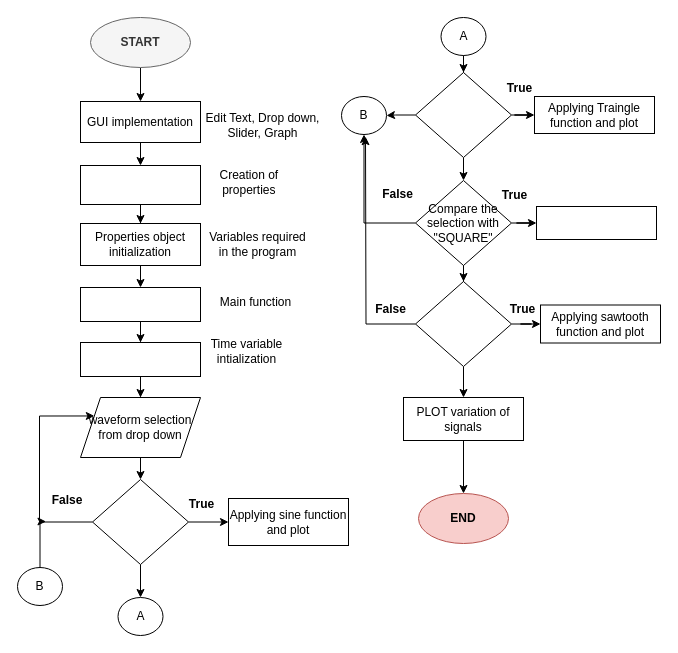
The diagram is 678 pixels wide and 653 high, and some of its shapes have lost their labels. Each missing label, with the centre of its shape:
Applying Square function and plot: (596,223)
Compare the selection with "SAWTOOTH": (463,323)
Compare the selection with "SINE": (140,521)
Compare the selection with "Traingle": (463,115)
Properpties declaration: (140,184)
time dervative, time variable Initialization: (140,359)
Waveforn function: (140,304)
